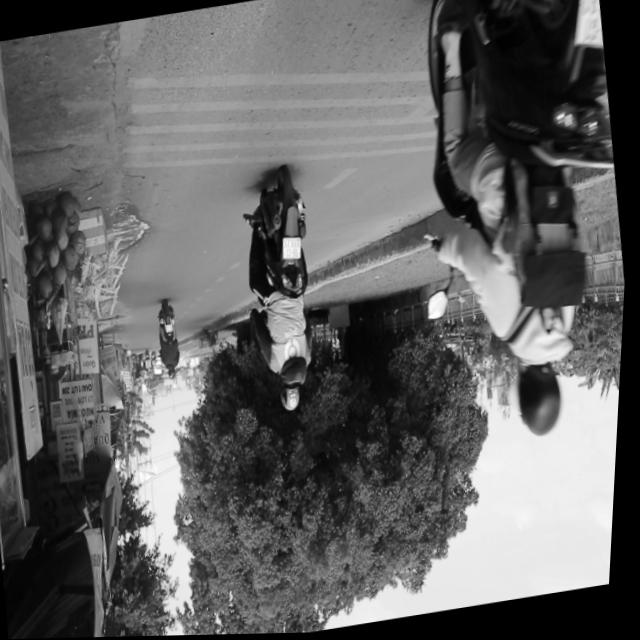helmet: (515, 359, 575, 446), (282, 378, 310, 417)
licenseplate: (387, 0, 640, 460), (230, 168, 341, 421)
nohelmet: (284, 236, 308, 264)
